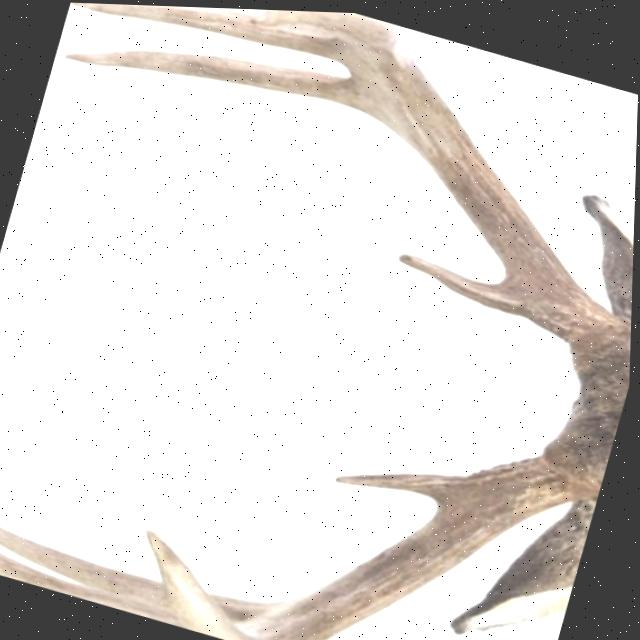L-F: (250, 8, 626, 343)
L-G1: (396, 249, 527, 312)
L-G2: (61, 46, 357, 102)
R-F: (145, 444, 596, 640)
R-G1: (334, 468, 479, 498)
